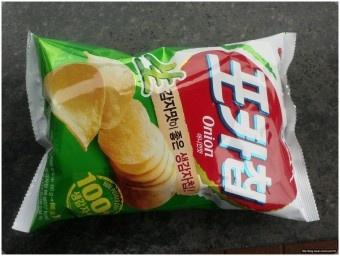snack: (11, 31, 322, 235)
